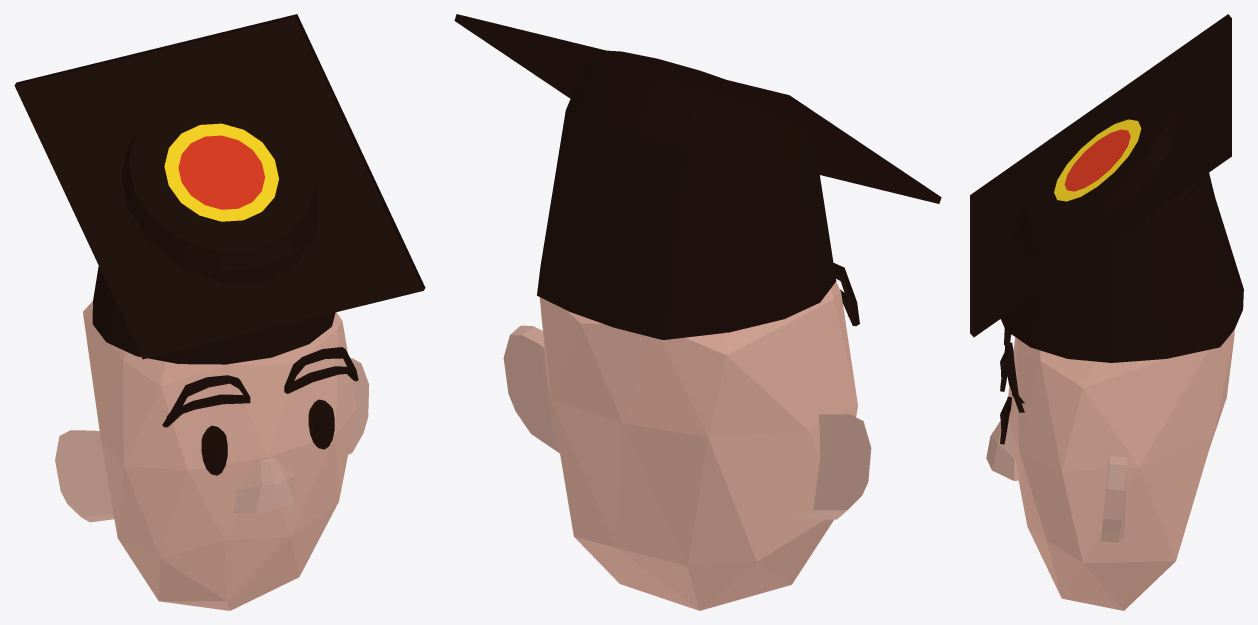
3 renders of one model, left to right at view 1: azimuth 30°, elevation 25°; view 2: azimuth 150°, elevation 25°; view 3: azimuth 270°, elevation 25°, orthographic. The views are drawn at different scales.
Parts seen in each view (by area): view 1: Face, Eyebrows.Smile, Eyebrows.Regular, Eyes.Smile, Eyes.Regular; view 2: Face; view 3: Face, Eyebrows.Smile, Eyes.Smile.
Part boxes in pixels (box(x1,y1,x2,y2)): Face: box(14, 14, 425, 610); Eyebrows.Smile: box(166, 347, 355, 419); Eyebrows.Regular: box(162, 366, 358, 427); Eyes.Smile: box(201, 399, 334, 461); Eyes.Regular: box(203, 421, 334, 475); Face: box(454, 14, 941, 610); Face: box(970, 14, 1243, 610); Eyebrows.Smile: box(1004, 329, 1024, 403); Eyes.Smile: box(1000, 352, 1011, 433).
Size of the model in its own units: 5.13 by 8.24 by 3.98.
Materials: 1 (1 with a texture image).
